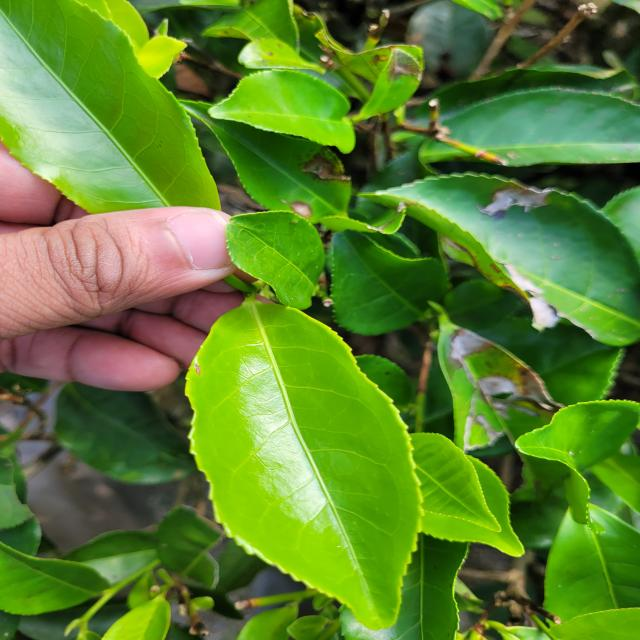Category B(2-4 days): (171, 260, 473, 640)
